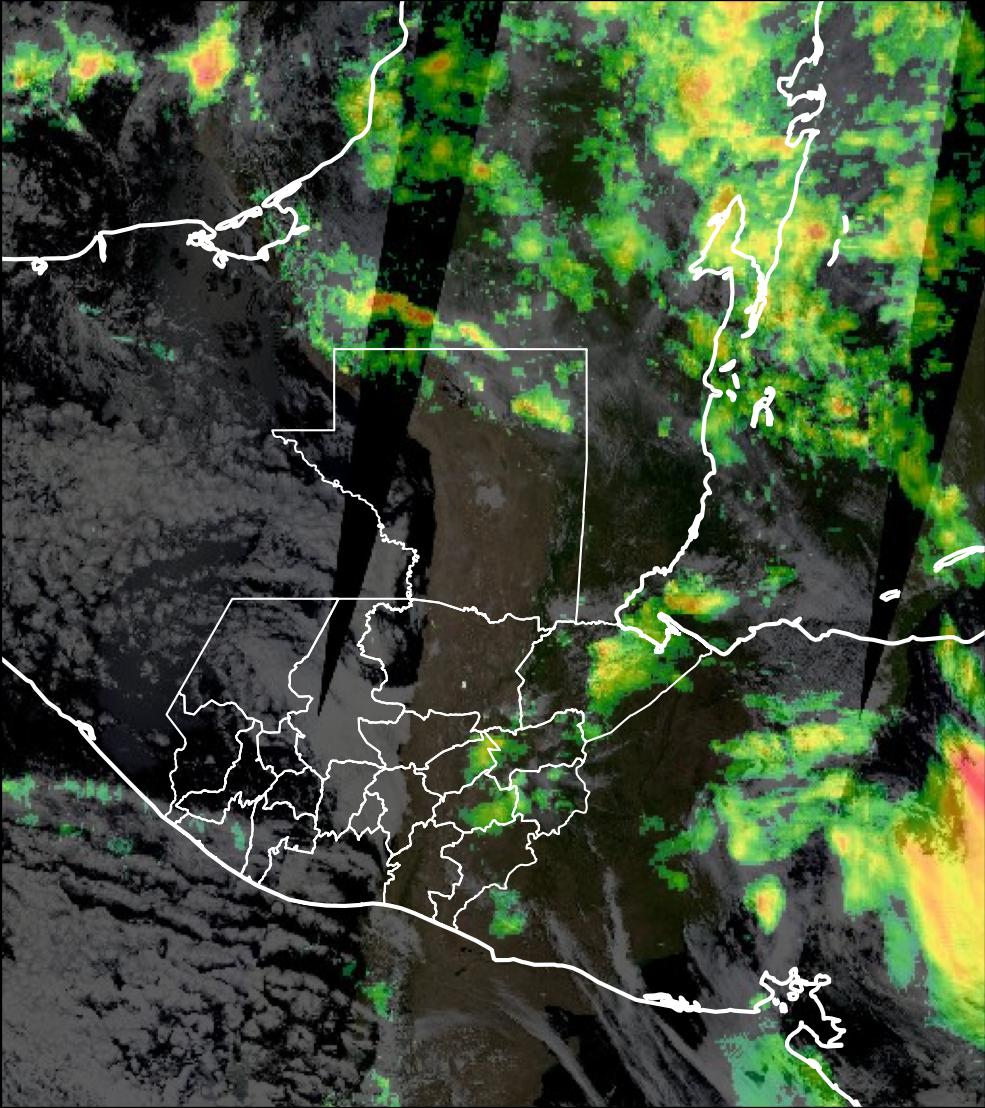precipitacion: (918, 730, 985, 869), (174, 23, 237, 99)
